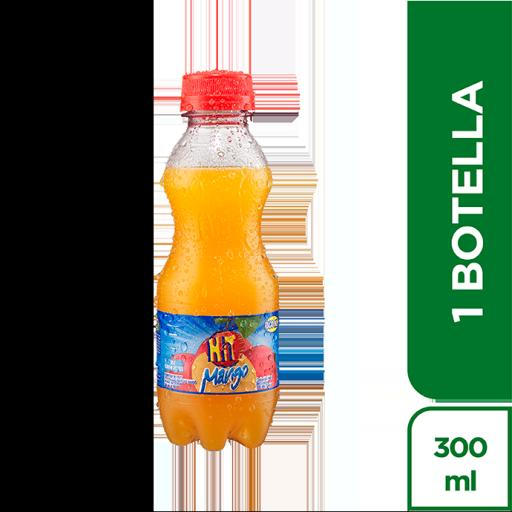JugoHM: (142, 43, 310, 456)
